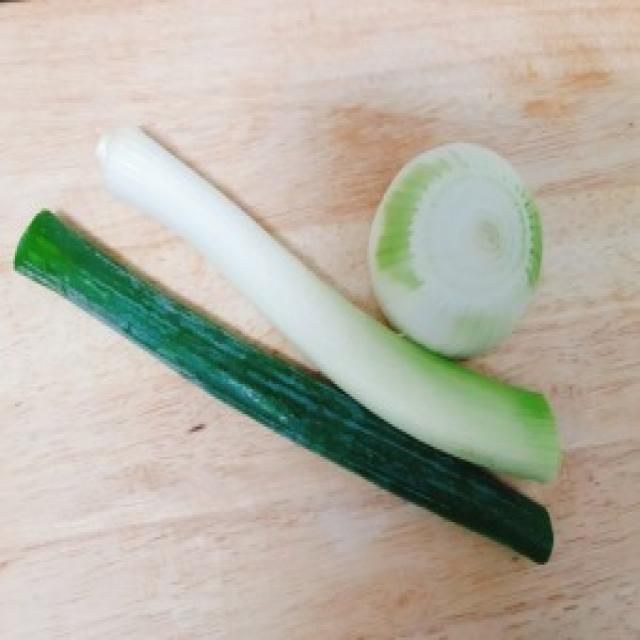onion: (358, 137, 554, 358)
